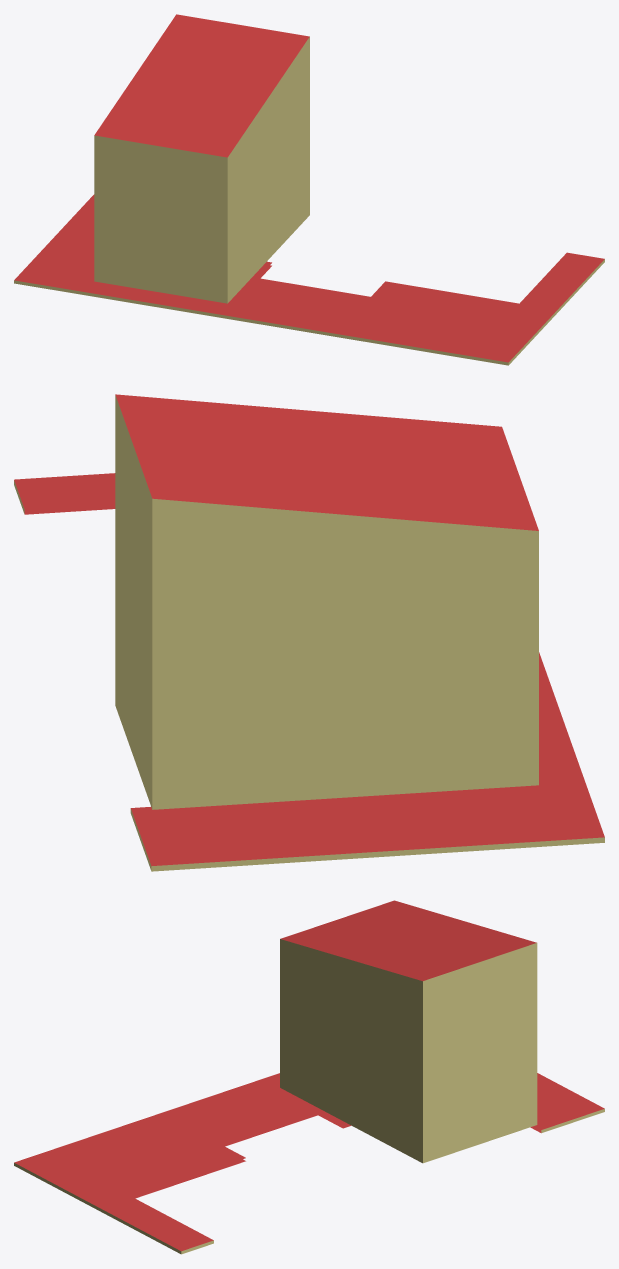
3 renders of one model, top to bottom at view 1: azimuth 30°, elevation 25°; view 2: azimuth 150°, elevation 25°; view 3: azimuth 270°, elevation 25°, orthographic. The views are drawn at different scales.
Size of the model in its own units: 15.62 by 16.86 by 5.84.
